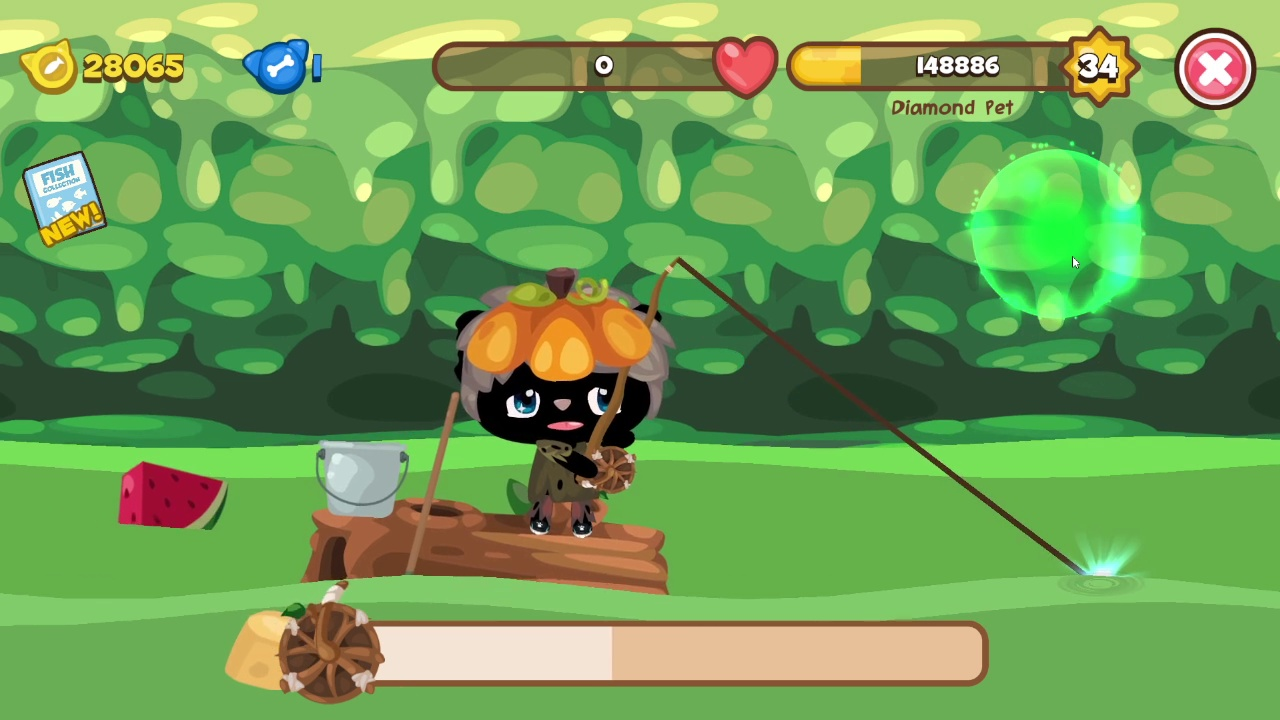point: (971, 149, 1145, 326)
